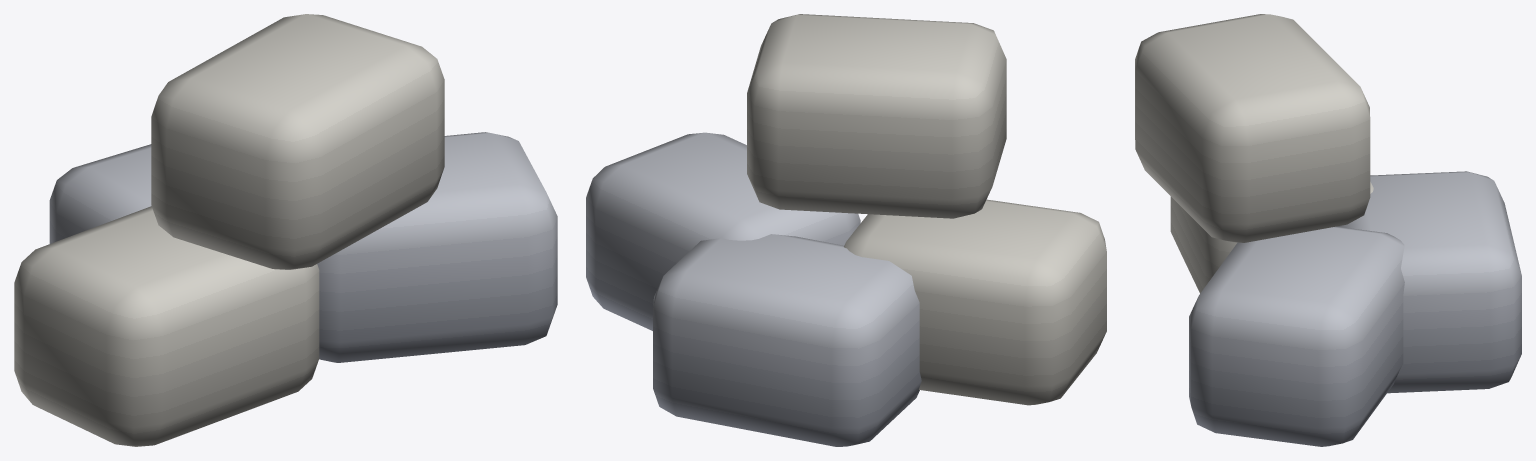
File: stones.glb
3 views of the same model, side by side, from view 1: azimuth 30°, elevation 25°; view 2: azimuth 150°, elevation 25°; view 3: azimuth 270°, elevation 25° (orthographic). The views are drawn at different scales.
Parts seen in each view (by area): view 1: stones; view 2: stones; view 3: stones.
Part boxes in pixels (x1,y1,x2,y2): stones: (14,14,557,446); stones: (586,14,1106,446); stones: (1135,14,1521,446).
Bounding box in the file's own units: 0.4361 × 0.27 × 0.3185.
1 material, 1 textured.
